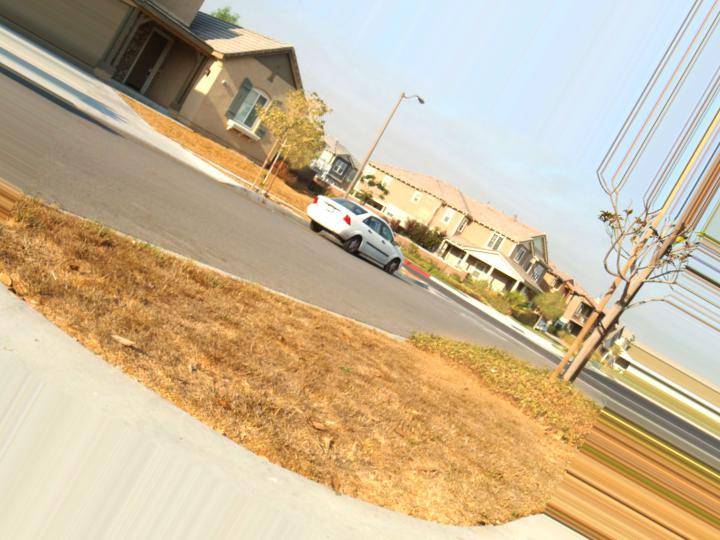patch: (327, 354, 508, 480), (130, 272, 258, 369), (29, 234, 91, 332), (264, 319, 302, 387), (265, 387, 304, 448)
